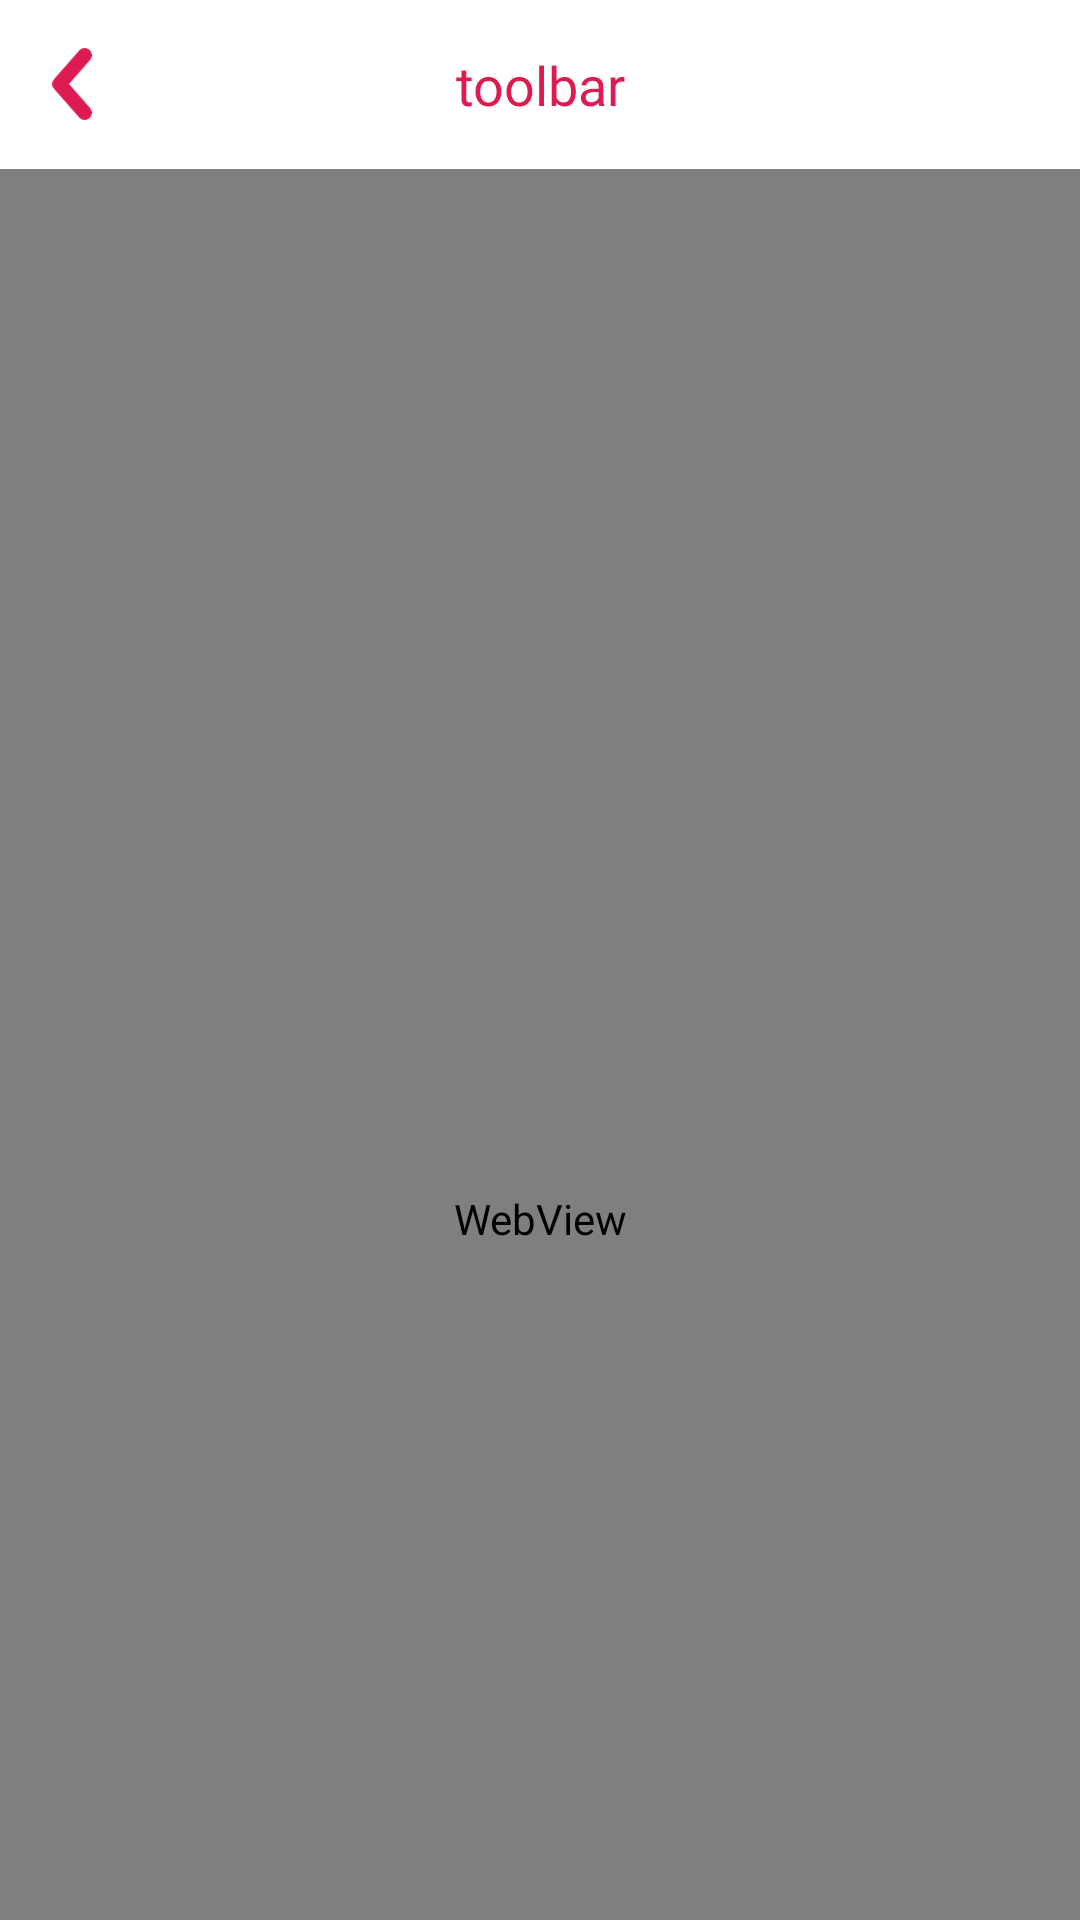

Icons on this 1080x1920 Android screen, each with the point to tap as point (x, y):
arrow: point (72, 84)
